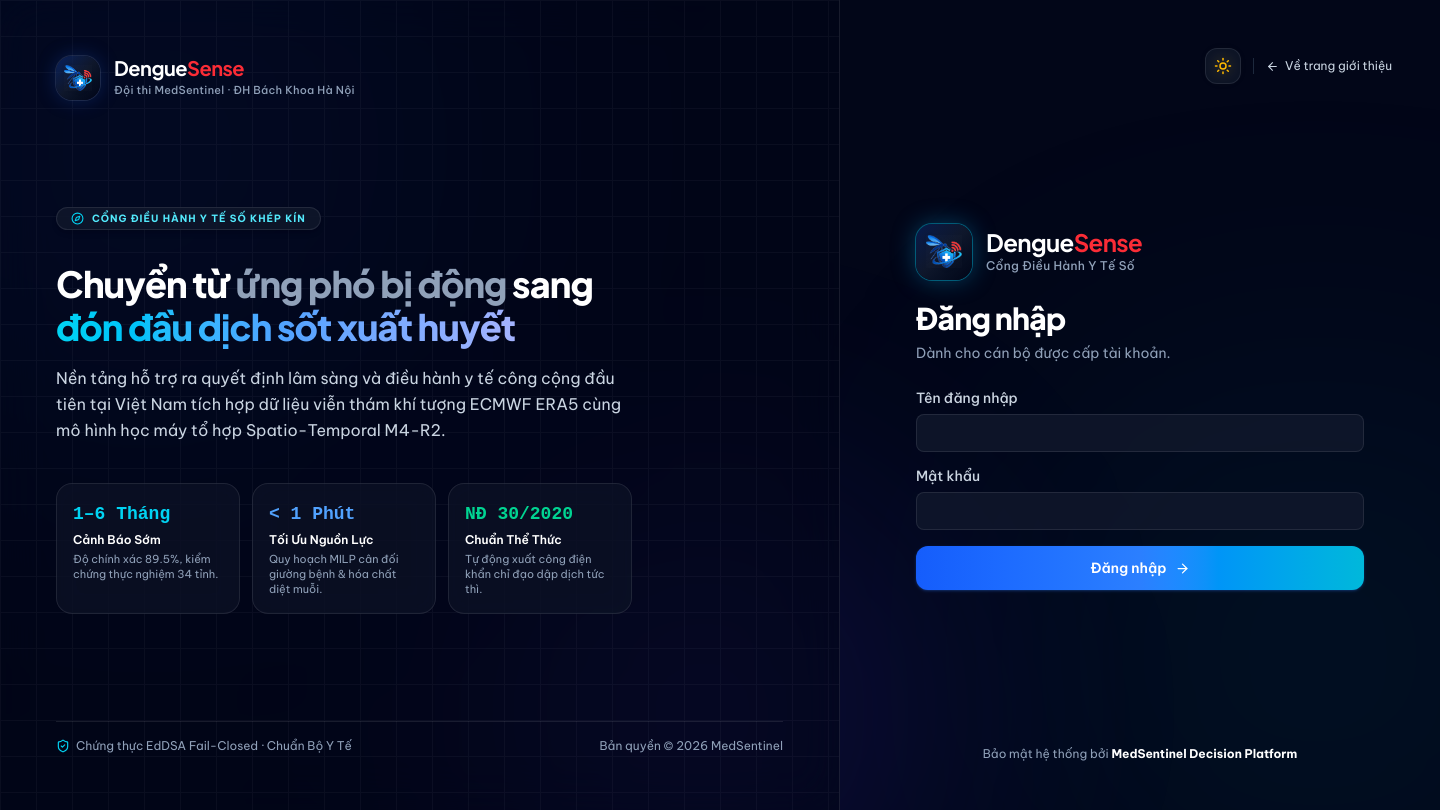
đăng nhập › sai mật khẩu → thông báo CHUNG (không gợi ý trường nào sai), vẫn ở trang đăng nhập
This screenshot has width=1440, height=810.
Expected: the heading "Đăng nhập" is shown, [916,299,1065,337]
In the field labelled "Tên đăng nhập": (1140, 433) [916,414,1364,452], type "demo.xem"
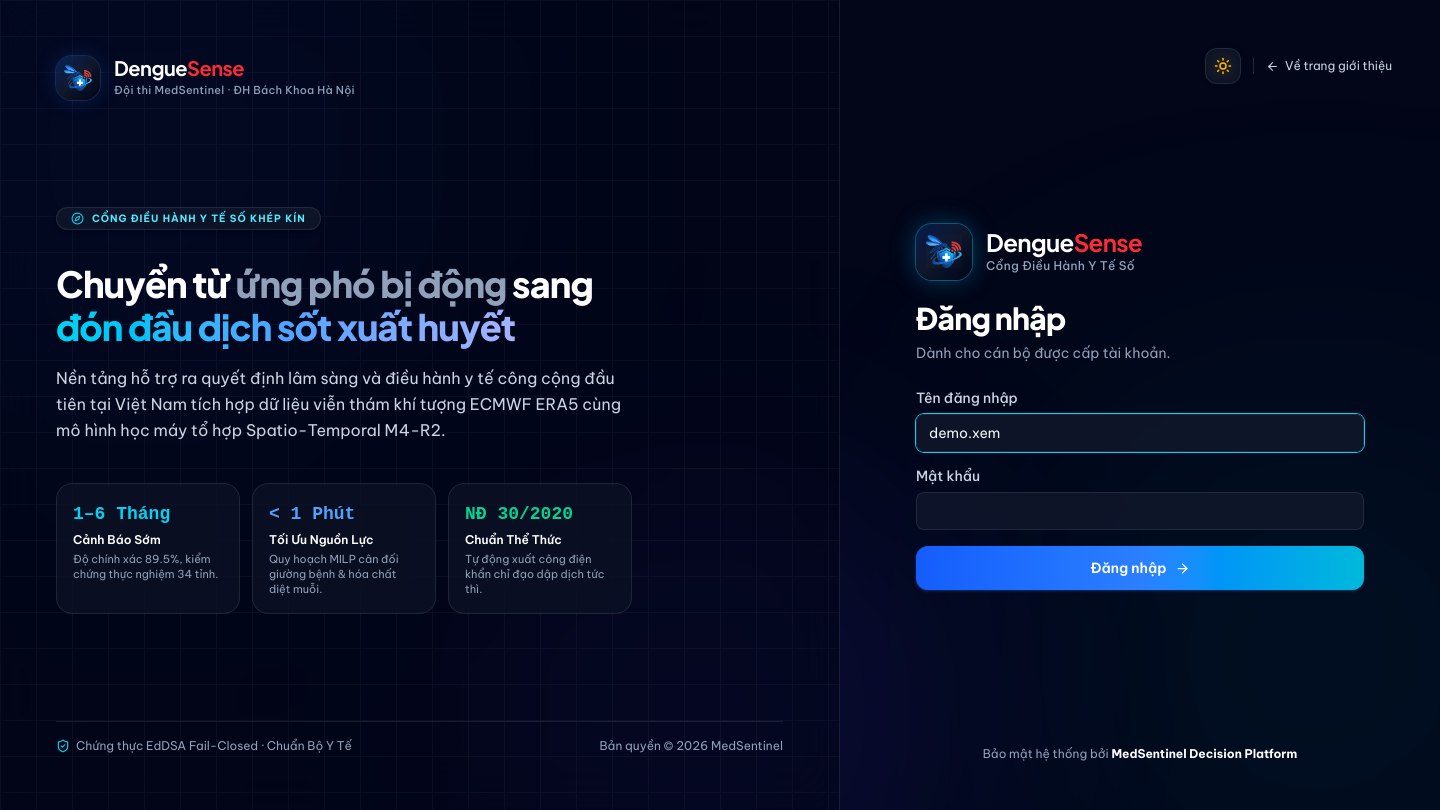
In the password field labelled "Mật khẩu": (1140, 511) [916,492,1364,530], type "sai-mat-khau-xxxx"
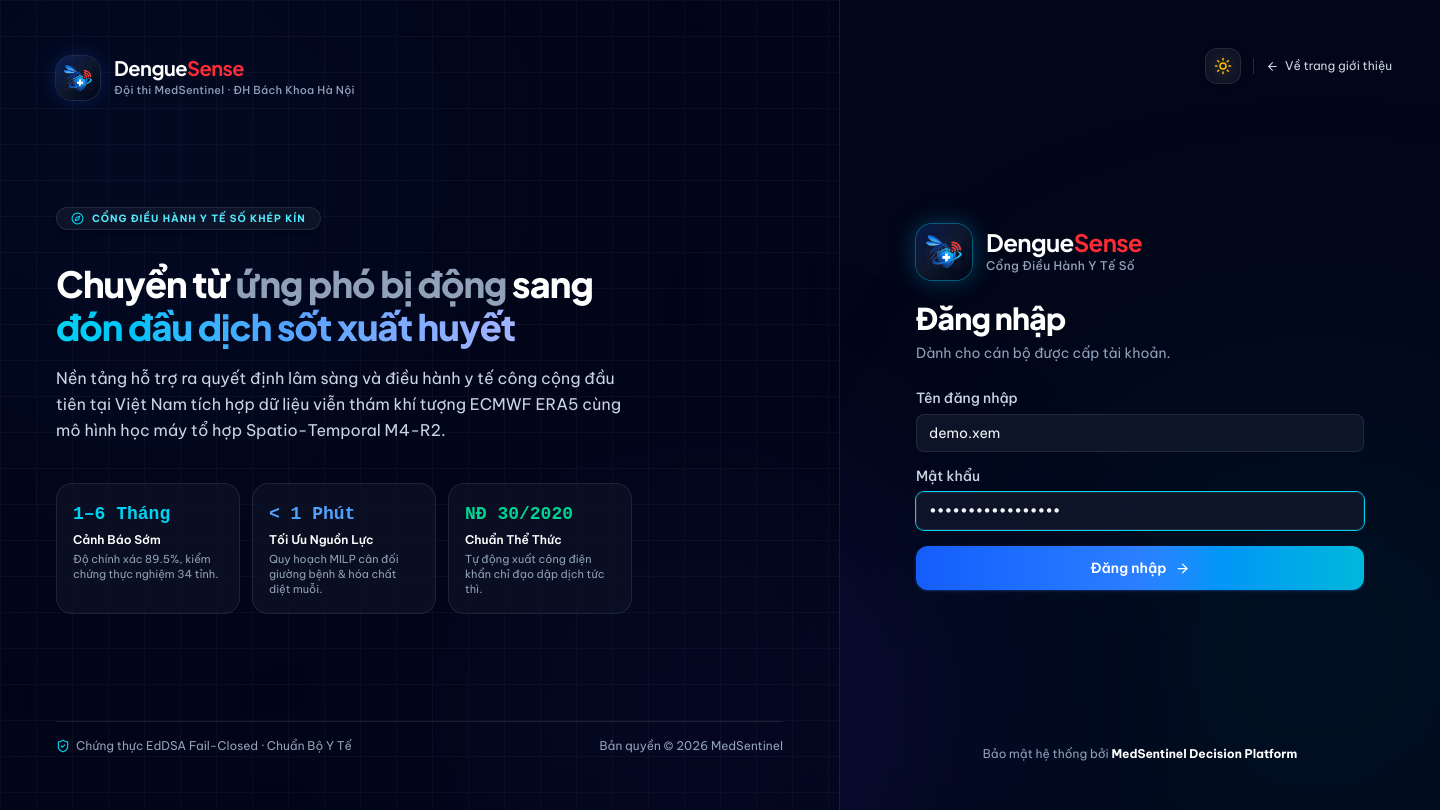
Click the button "Đăng nhập": (1140, 568) [916,546,1364,590]
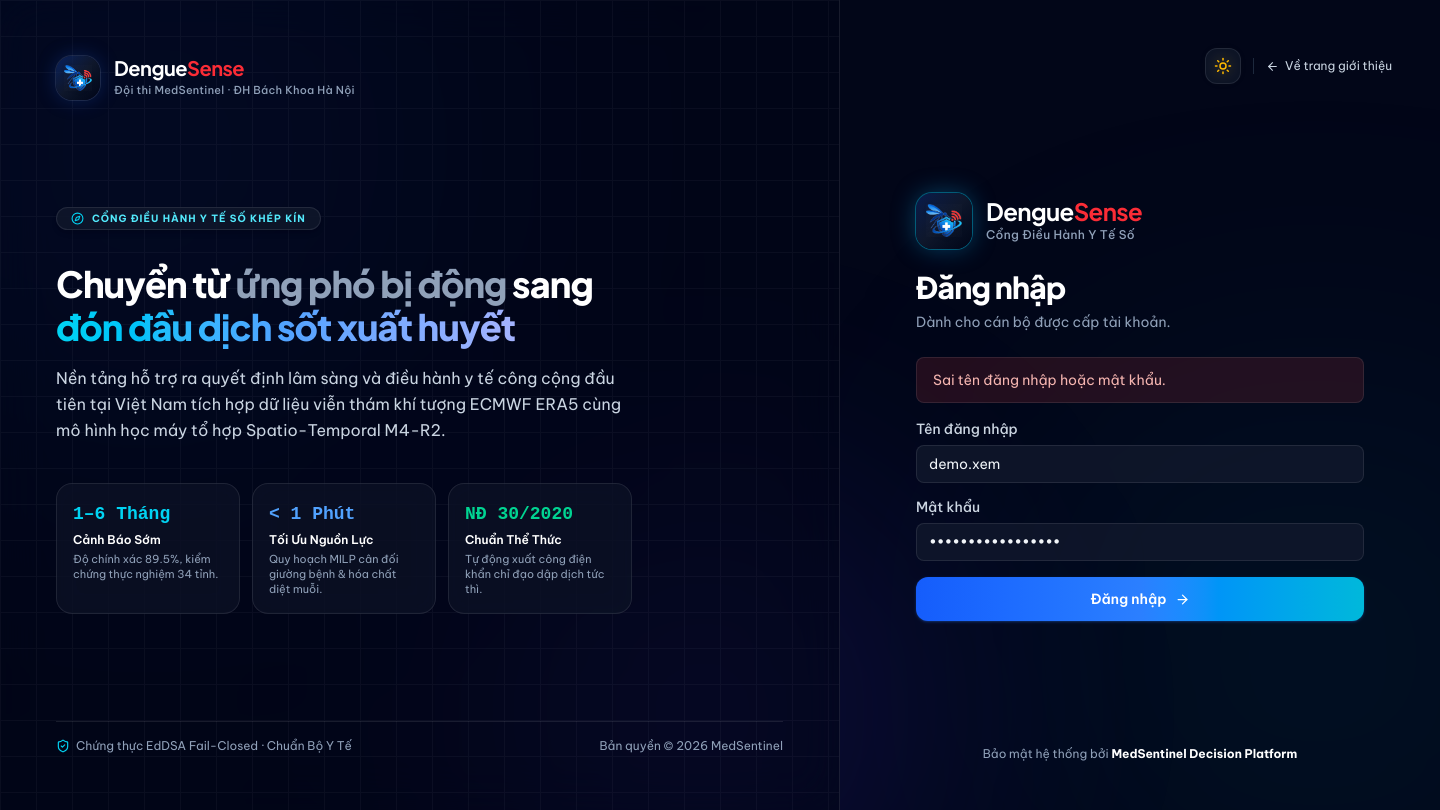
Now the message reads "Sai tên đăng nhập hoặc mật khẩu.", box [933,371,1166,389]
